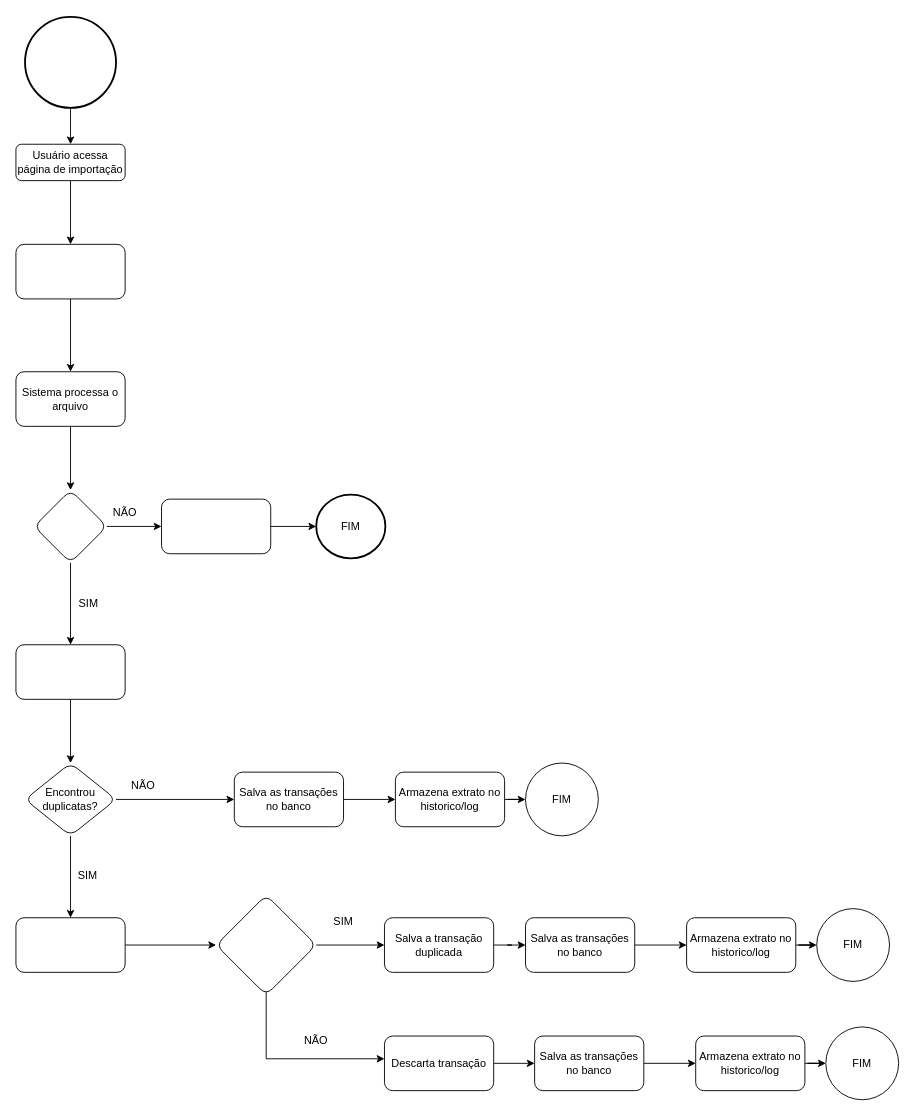
This 915x1116 diagram has some shape labels left out. The shapes that lost their labels are listed below. From the top down, each one's box as (x1, y1, x2, y2) in pixels, then its label:
(24, 15, 116, 108): Inicio
(15, 243, 125, 299): Faz upload do arquivo
(33, 489, 107, 563): Arquivo é válido?
(161, 498, 271, 554): Exibe mensagem de erro
(15, 644, 125, 699): Sistema verifica duplicatas
(15, 917, 125, 972): Exibe alerta de duplicata
(215, 894, 316, 995): Usuario deseja manter?
